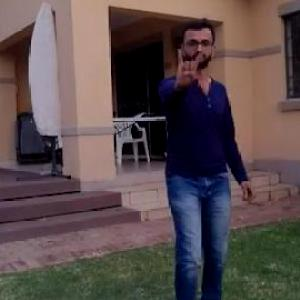takeoff-hand: (170, 38, 206, 86)
